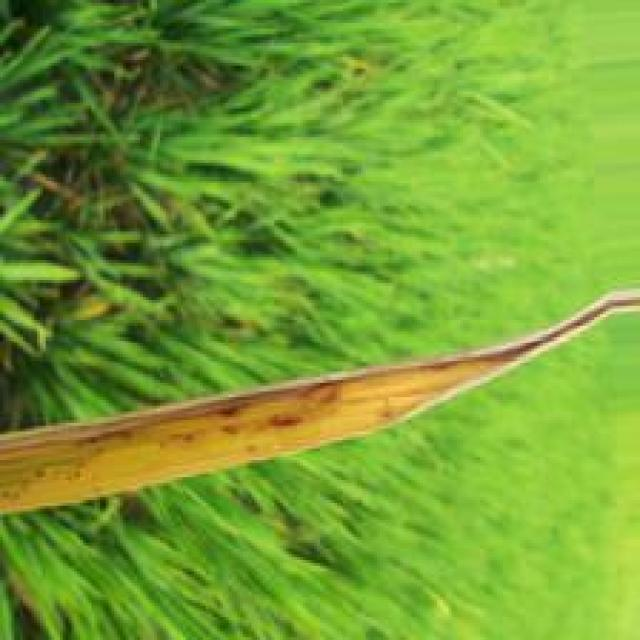Narrow_Brown_Leaf_Spot: (0, 289, 636, 513)
